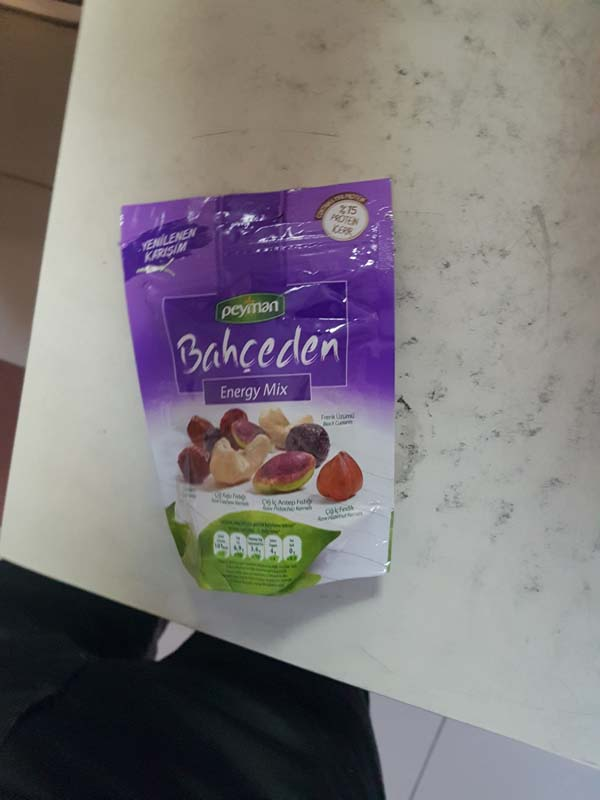bahcedenenergymix: (110, 171, 400, 601)
